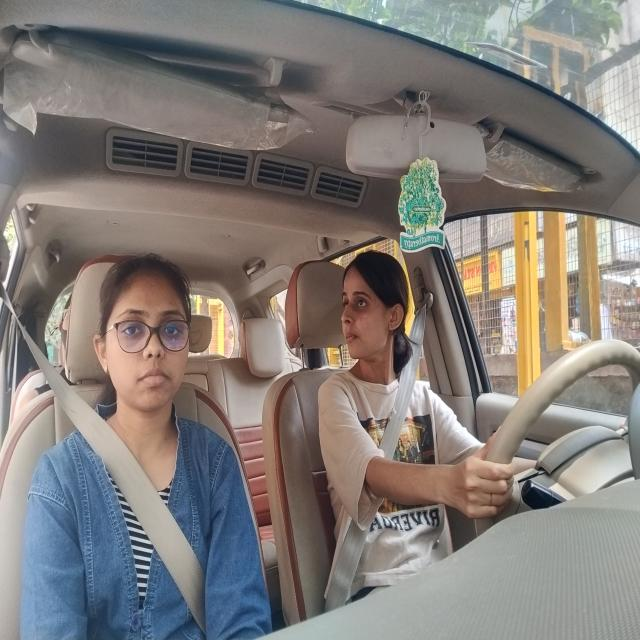LeftRight: (335, 257, 414, 374)
person: (97, 264, 190, 412)
